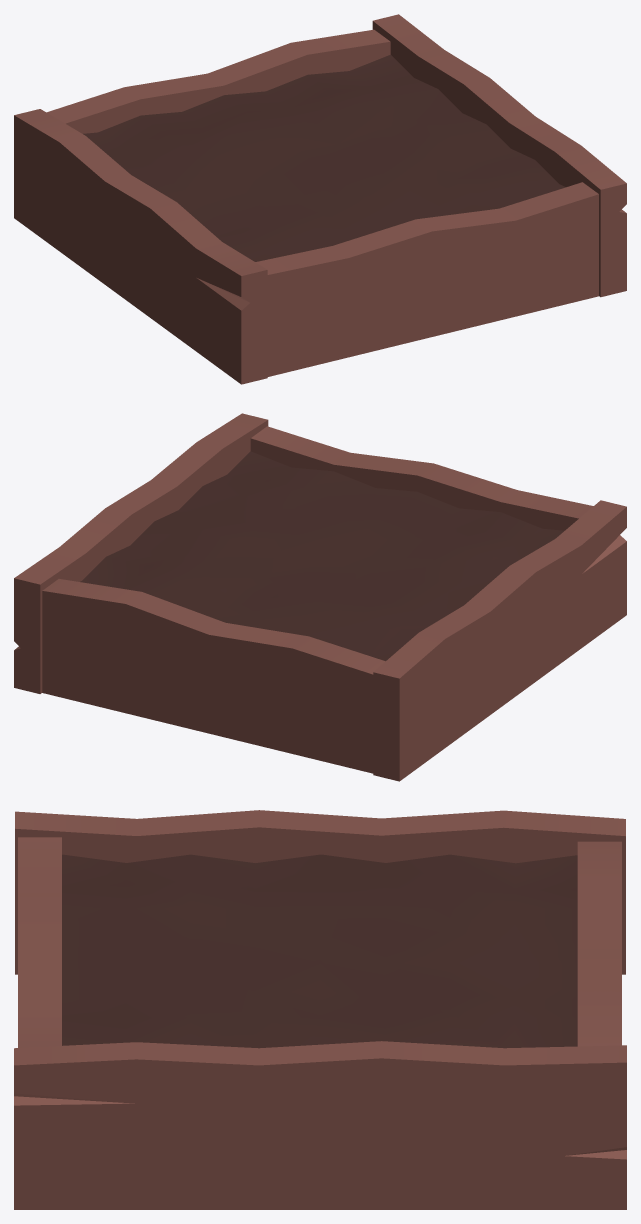
Rendered from plant_box.fbx.
The picture shows the model from 3 angles, top to bottom: view 1: azimuth 30°, elevation 25°; view 2: azimuth 150°, elevation 25°; view 3: azimuth 270°, elevation 25°; orthographic projection. The views are drawn at different scales.
Visible parts, largest first — view 1: dirt.001, plank.003, plank.002, plank.001, plank.004; view 2: dirt.001, plank.004, plank.002, plank.001, plank.003; view 3: plank.001, dirt.001, plank.002, plank.003, plank.004.
Boxes of the visible parts, bbox=[...] form: dirt.001: bbox=[83, 54, 565, 261]; plank.003: bbox=[255, 182, 598, 376]; plank.002: bbox=[14, 109, 267, 384]; plank.001: bbox=[372, 14, 626, 297]; plank.004: bbox=[46, 29, 390, 133]; dirt.001: bbox=[80, 451, 564, 661]; plank.004: bbox=[42, 579, 385, 773]; plank.002: bbox=[373, 500, 626, 781]; plank.001: bbox=[14, 413, 268, 693]; plank.003: bbox=[250, 426, 593, 530]; plank.001: bbox=[14, 1041, 626, 1209]; dirt.001: bbox=[62, 854, 577, 1048]; plank.002: bbox=[15, 810, 625, 974]; plank.003: bbox=[18, 837, 61, 1047]; plank.004: bbox=[577, 841, 621, 1046].
Size of the model in its own units: 115 by 32.22 by 118.
